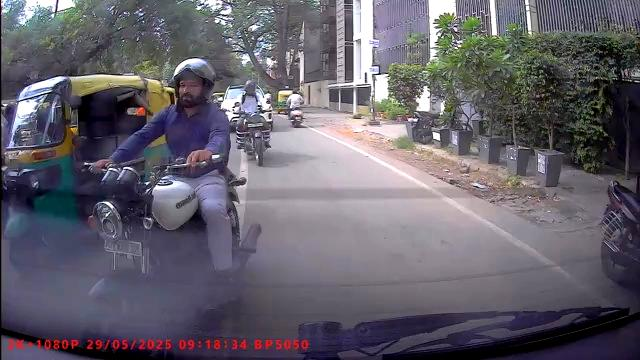motorcycle_with_helmet: (85, 58, 246, 338), (235, 79, 267, 166)
